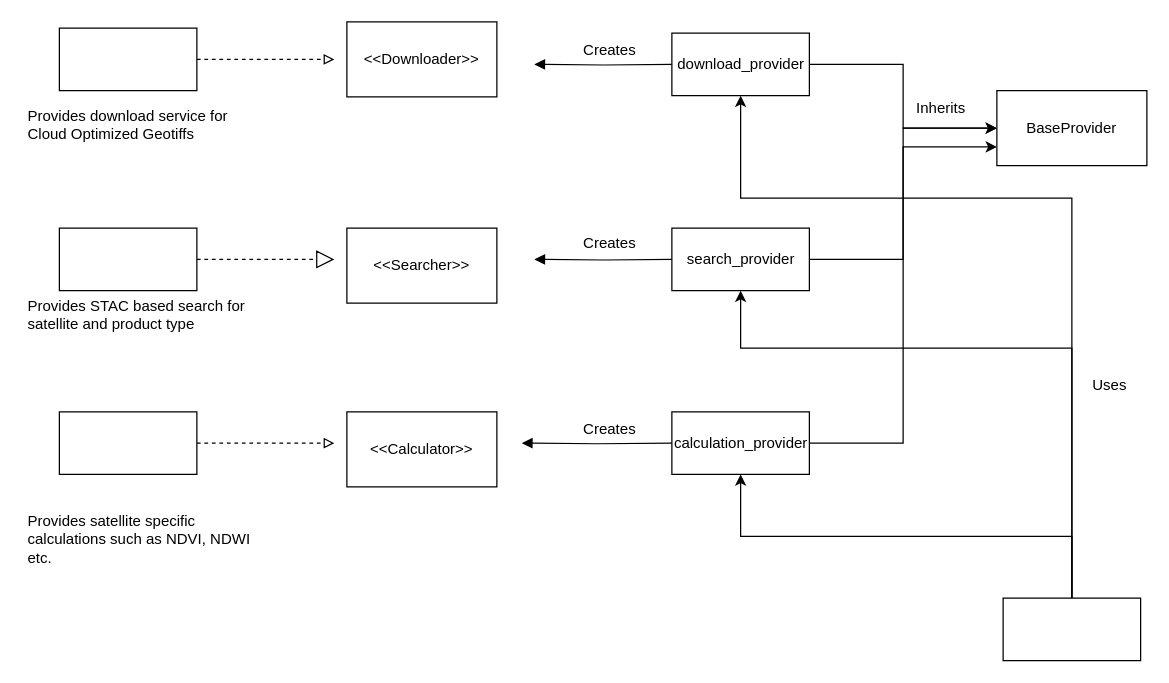
Some shapes in this 1169 by 683 pixel diagram are drawn without their labels. The box of each missing label's shape, as (x1, y1, x2, y2) in pixels:
COGDownloader: (58, 27, 197, 91)
Element84Searcher: (58, 227, 197, 291)
main: (1002, 597, 1141, 661)
Sentinel2Calculator: (58, 411, 197, 474)
